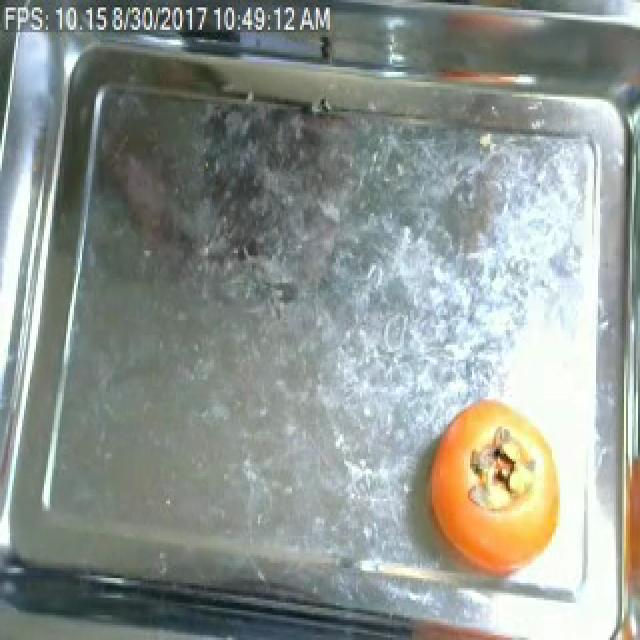Fruit: (420, 394, 566, 578), (608, 439, 640, 625), (394, 612, 540, 640)
